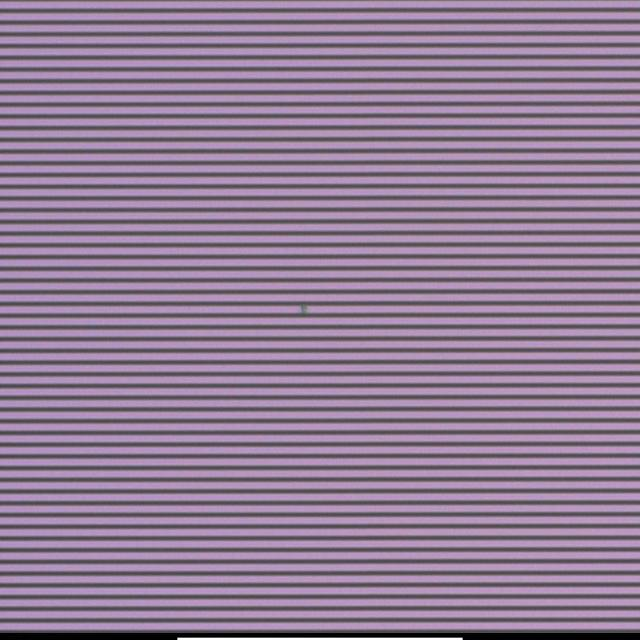nonvisual: (295, 298, 307, 320)
